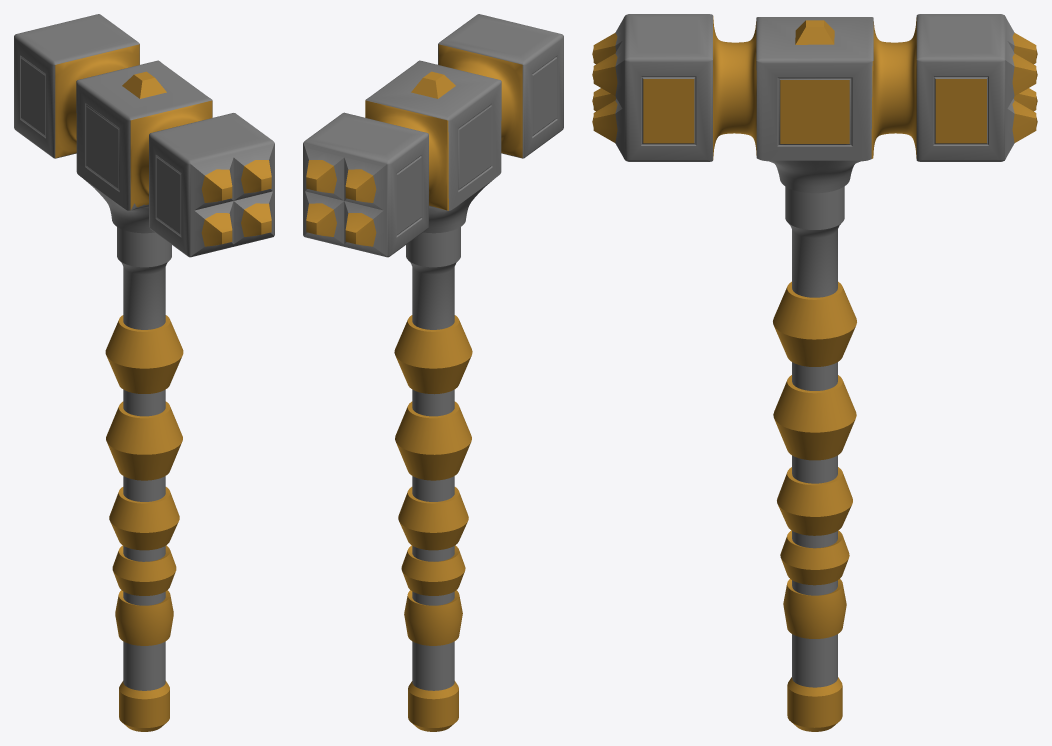
3 renders of one model, left to right at view 1: azimuth 30°, elevation 25°; view 2: azimuth 150°, elevation 25°; view 3: azimuth 270°, elevation 25°, orthographic. The views are drawn at different scales.
Parts seen in each view (by area): view 1: 1.001; view 2: 1.001; view 3: 1.001.
Part boxes in pixels (box(x1,y1,x2,y2)): 1.001: box(14, 14, 274, 731); 1.001: box(303, 14, 563, 731); 1.001: box(592, 14, 1037, 731).
Bounding box in the file's own units: 92.39 × 653 × 376.
